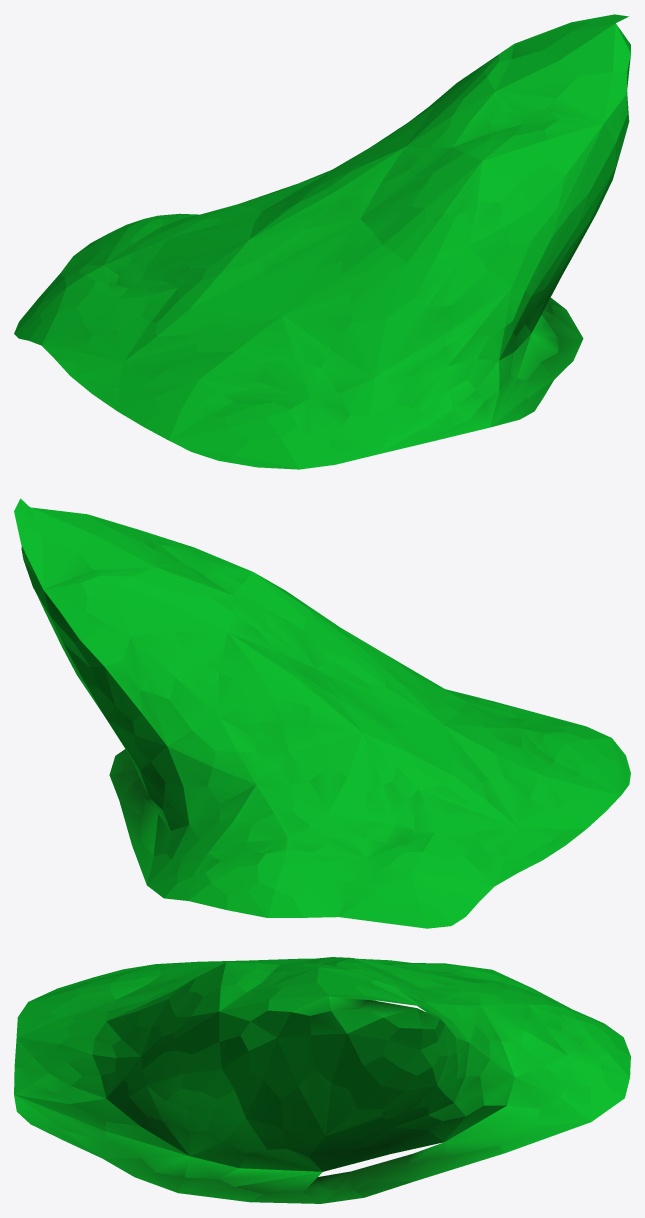
The model's file is GreenMountain.fbx.
The picture shows the model from 3 angles, top to bottom: view 1: azimuth 30°, elevation 25°; view 2: azimuth 150°, elevation 25°; view 3: azimuth 270°, elevation 25°; orthographic projection. The views are drawn at different scales.
Visible parts, largest first — view 1: Mountain_06; view 2: Mountain_06; view 3: Mountain_06.
Part boxes in pixels (x1,y1,x2,y2): Mountain_06: [14, 14, 630, 469]; Mountain_06: [14, 498, 630, 928]; Mountain_06: [14, 957, 630, 1203].
Bounding box in the file's own units: 5771 × 2507 × 5302.
